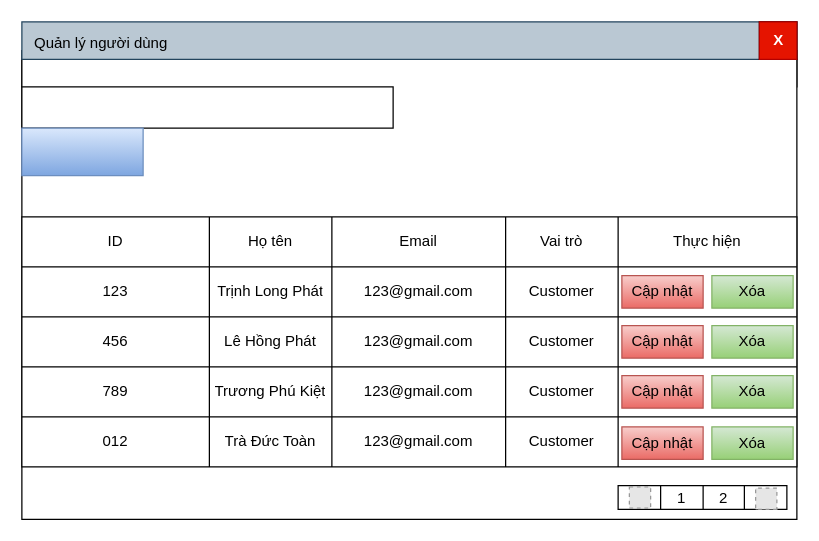
The diagram is 819 pixels wide and 541 high, and some of its shapes have lost their labels. Grey dashed boxes stand in for pictures. Here are the shapes that lost their labels. From the top down, the centre of each, then its label:
point 207,107: Tìm kiếm users
point 82,151: Tạo user mới
